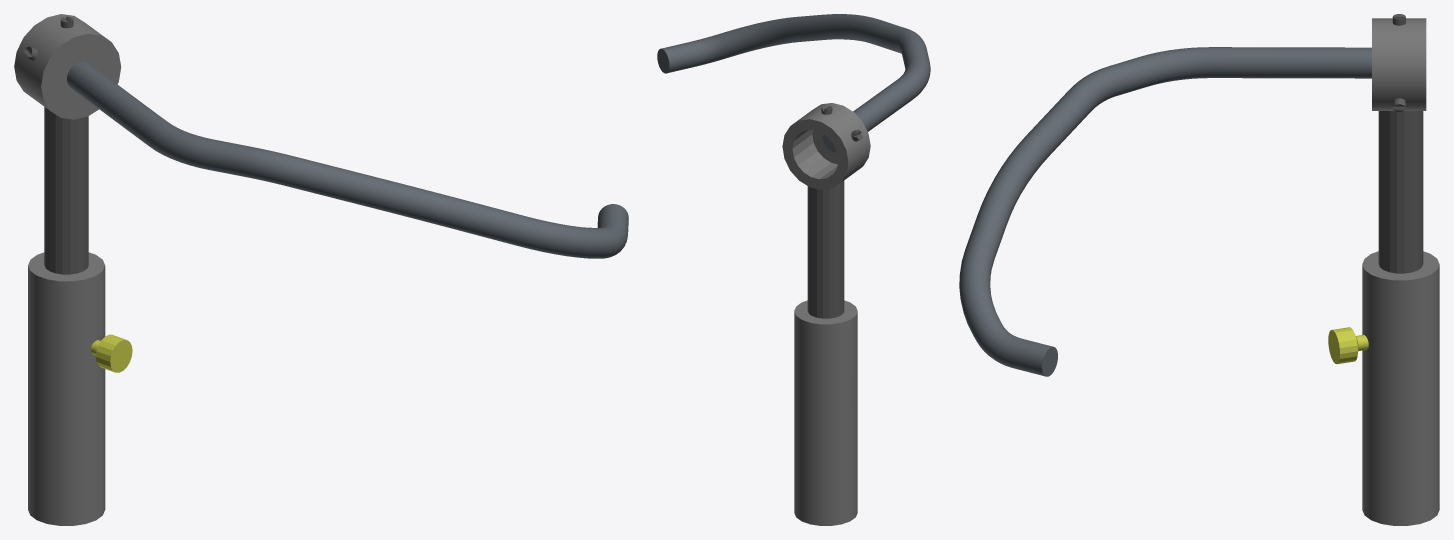
File: Optical_channel_3.glb
3 renders of one model, left to right at view 1: azimuth 30°, elevation 25°; view 2: azimuth 150°, elevation 25°; view 3: azimuth 270°, elevation 25°, orthographic. The views are drawn at different scales.
Visible parts, largest first — view 1: Cylinder361, Line002, Object025, Cylinder056, Object026; view 2: Cylinder361, Line002, Cylinder056, Object025; view 3: Line002, Cylinder361, Object025, Cylinder056, Object026.
Part boxes in pixels (x1,y1,x2,y2): Cylinder361: [28, 252, 105, 525]; Line002: [67, 61, 628, 258]; Object025: [44, 107, 88, 274]; Cylinder056: [14, 14, 121, 119]; Object026: [90, 334, 132, 372]; Cylinder361: [794, 300, 857, 525]; Line002: [657, 14, 930, 152]; Cylinder056: [782, 103, 870, 189]; Object025: [807, 180, 844, 318]; Line002: [959, 47, 1371, 376]; Cylinder361: [1362, 251, 1439, 525]; Object025: [1378, 111, 1423, 273]; Cylinder056: [1372, 18, 1426, 110]; Object026: [1328, 327, 1368, 364].
Bounding box in the file's own units: 6.37 × 7.03 × 6.2.
